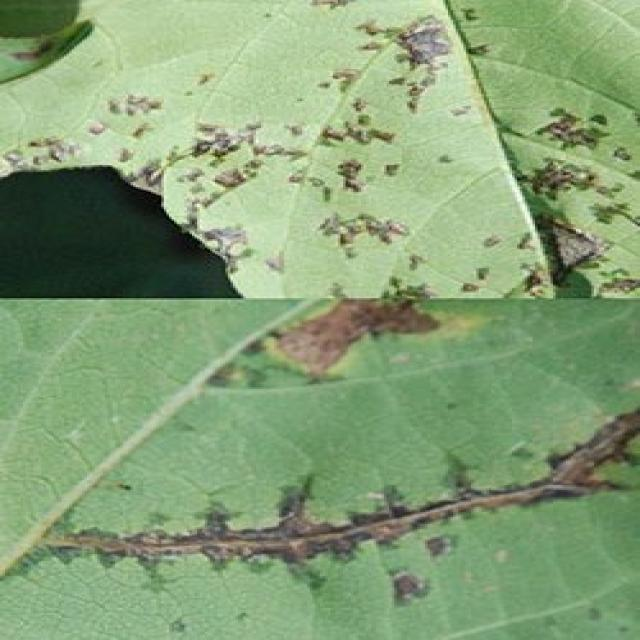Bacterial Blight: (86, 11, 615, 301), (42, 373, 640, 596)
